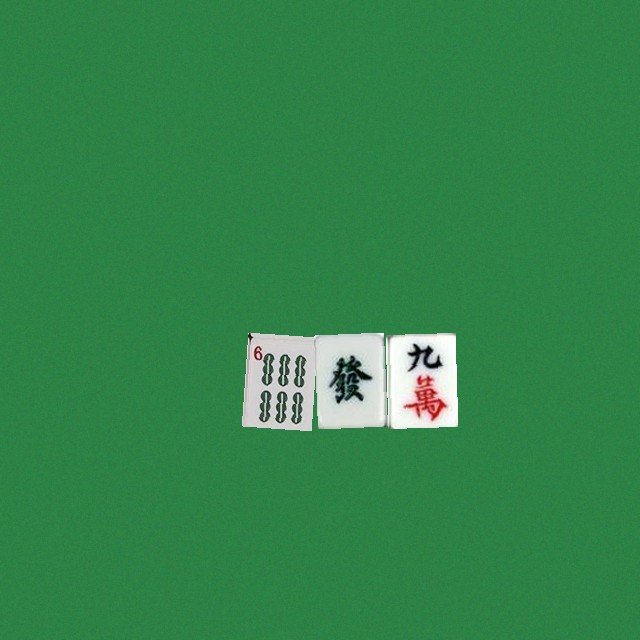tile: (241, 332, 311, 426), (313, 332, 383, 426), (385, 332, 455, 426)
